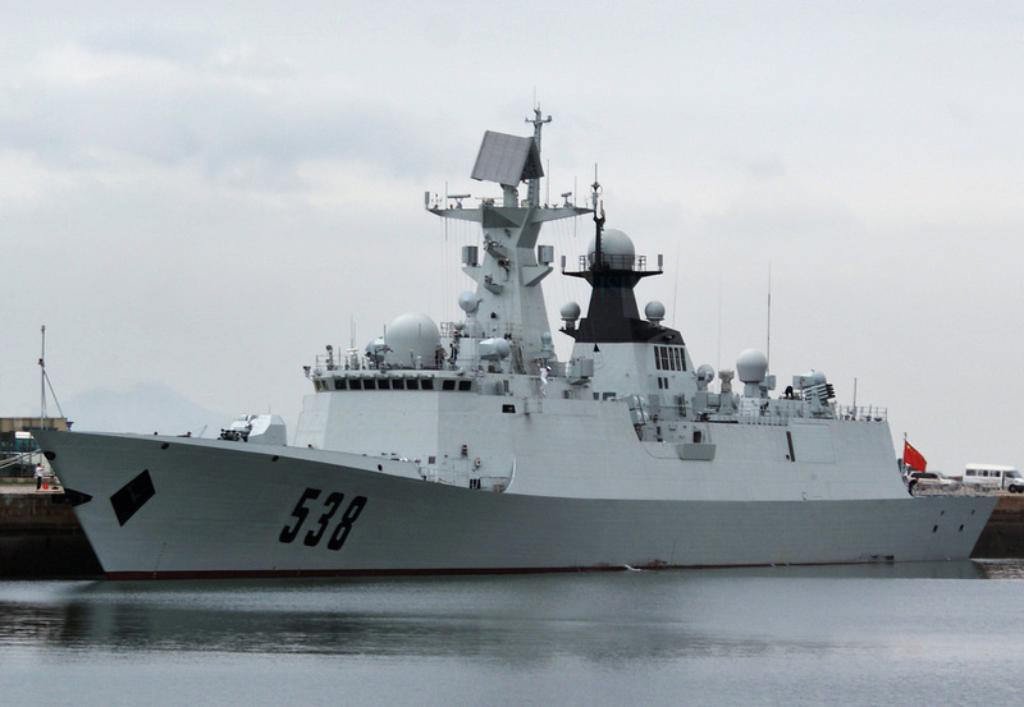Warship: (24, 86, 1024, 578)
